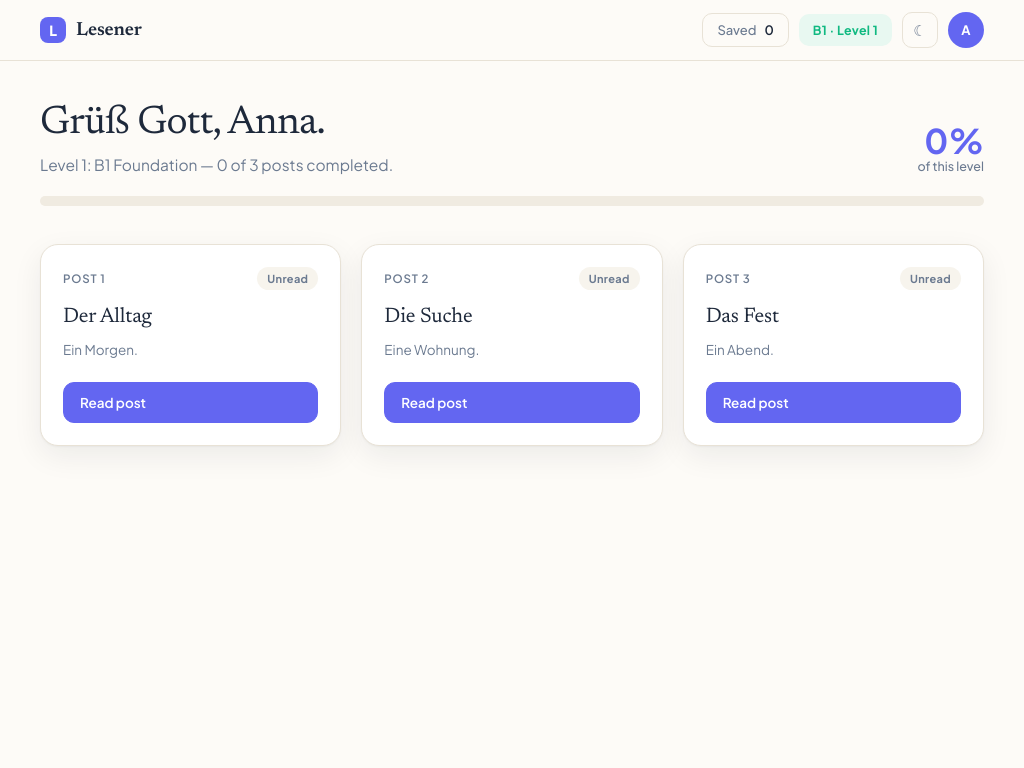
Test: pressing Finish › writes one completed session and badges the post at once
The width and height of the screenshot is (1024, 768).
Click the button "Read post" below "Ein Morgen." at x=191, y=402, box [63,382,318,423]
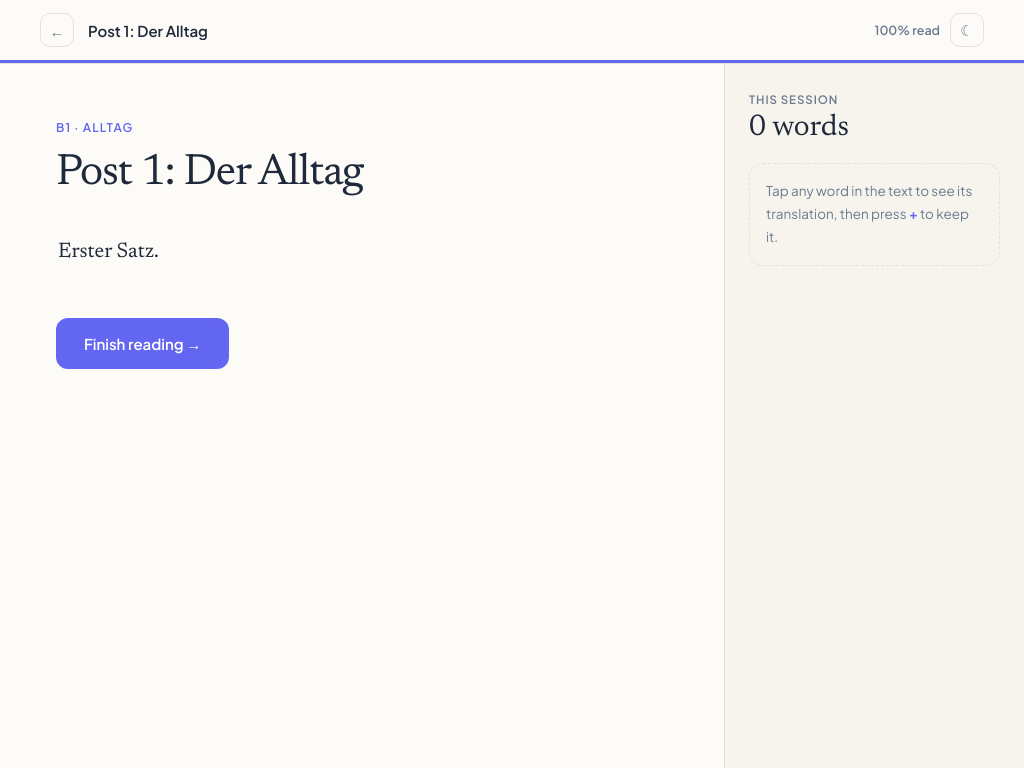
Click the button "Finish reading →" at x=143, y=344, box [56,318,229,369]
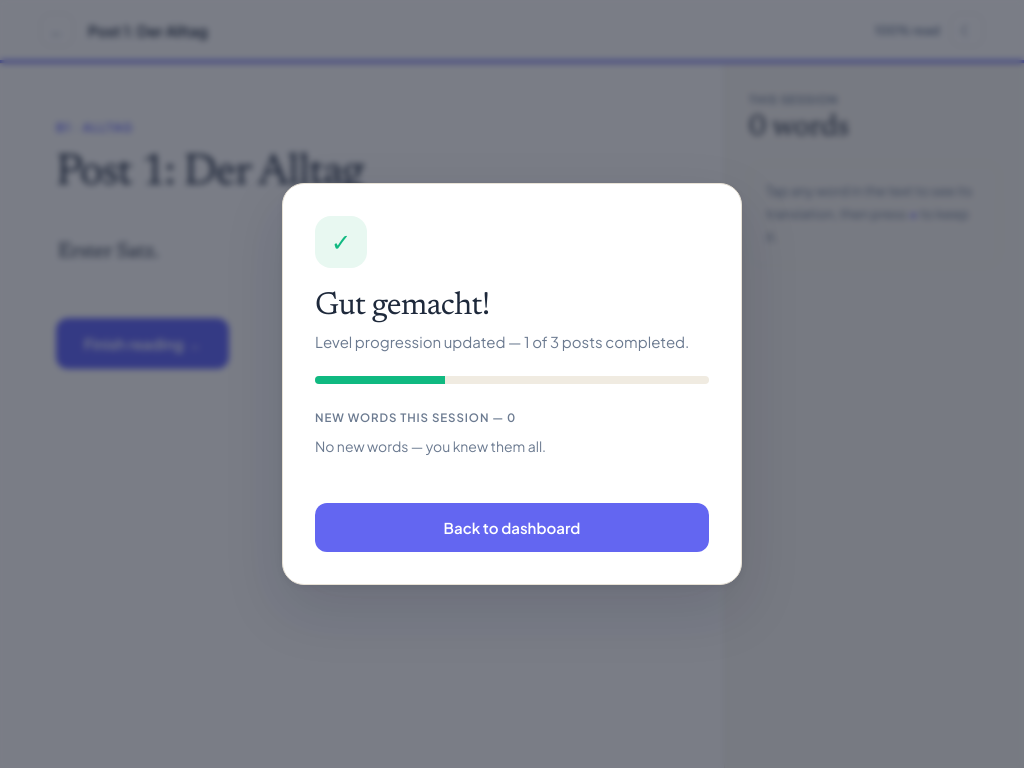
Click the button "Back to dashboard" at x=512, y=528, box [315,503,709,552]
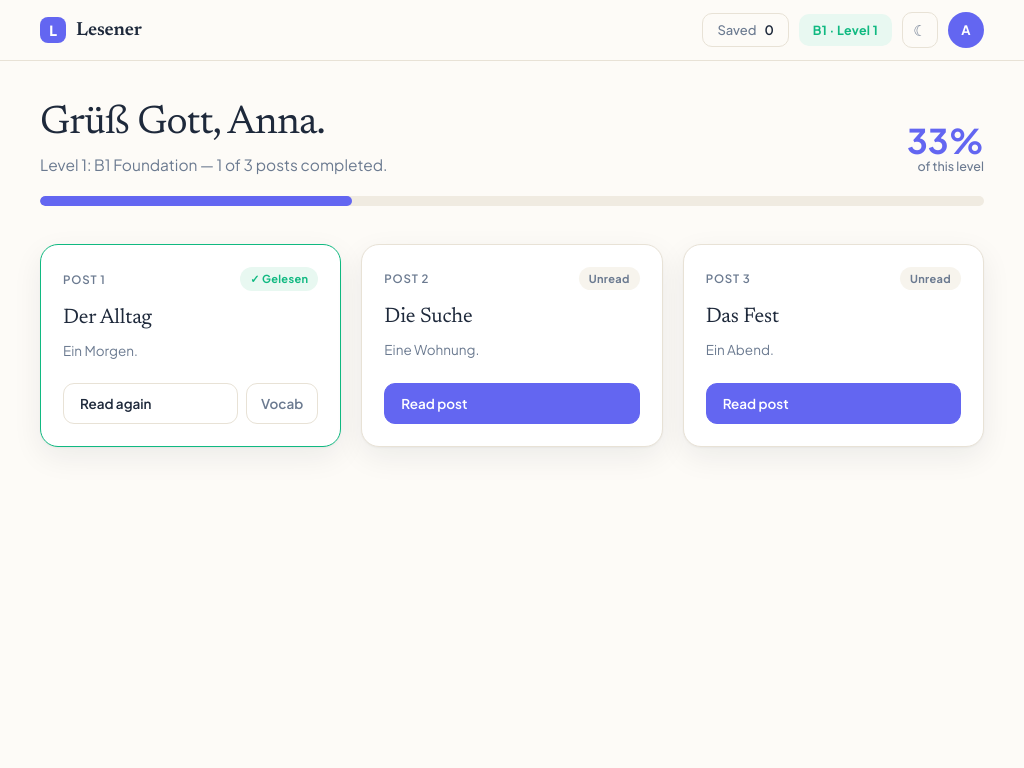
expect the text "✓ Gelesen" is shown once: met, box [240,267,318,291]
